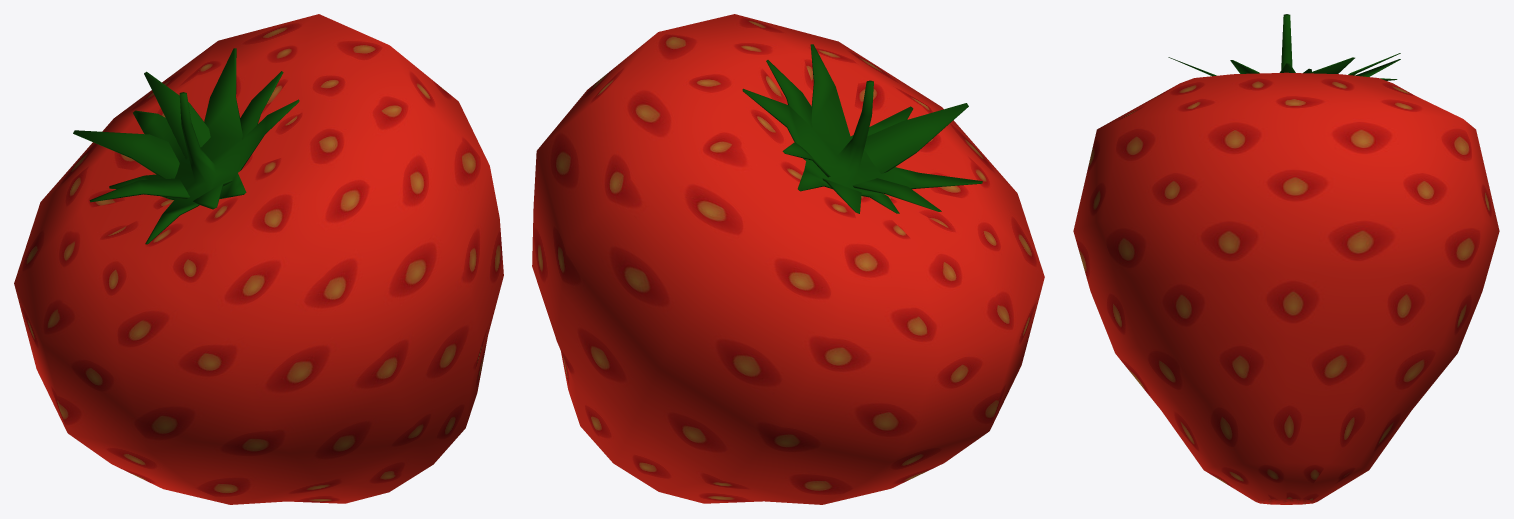
Rendered from strawberry.obj.
3 views of the same model, side by side, from view 1: azimuth 30°, elevation 25°; view 2: azimuth 150°, elevation 25°; view 3: azimuth 270°, elevation 25° (orthographic). The views are drawn at different scales.
Visible parts, largest first — view 1: Strawberry; view 2: Strawberry; view 3: Strawberry.
Part boxes in pixels (x1=…): Strawberry: x1=14, y1=14, x2=503, y2=504; Strawberry: x1=532, y1=14, x2=1044, y2=504; Strawberry: x1=1073, y1=14, x2=1499, y2=504.
Size of the model in its own units: 6.24 by 5.91 by 5.66.
